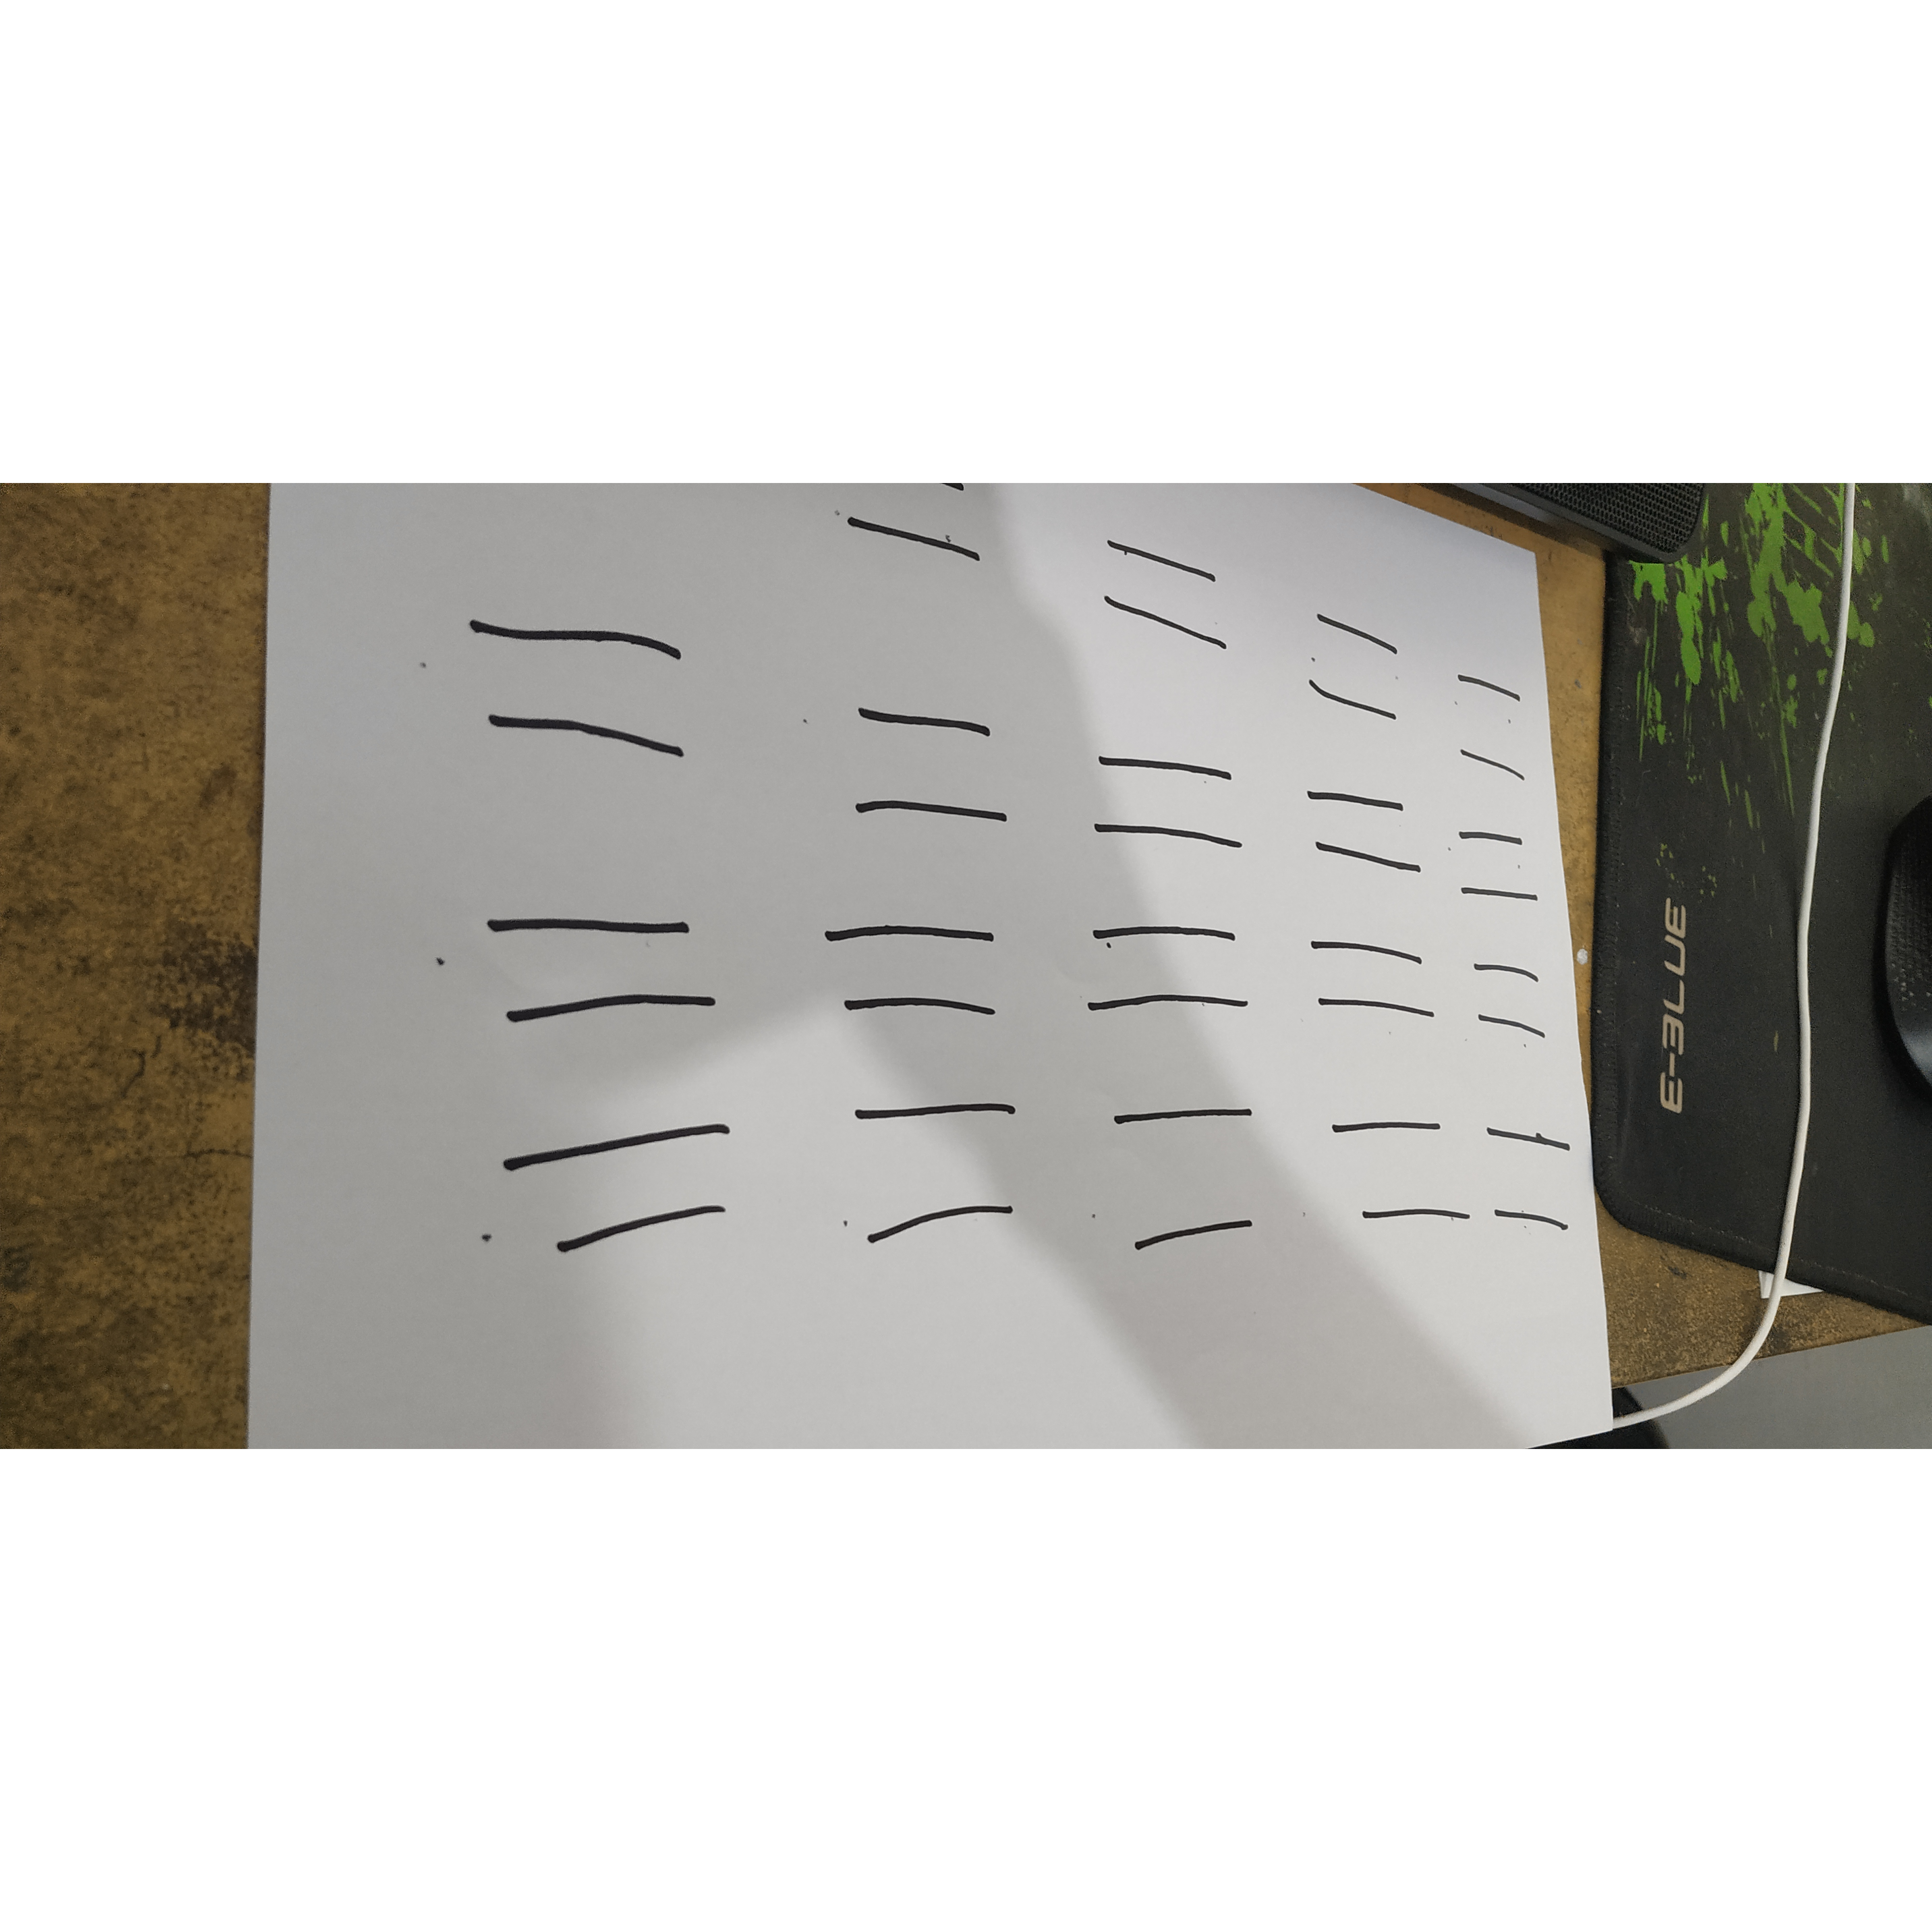equal: (450, 605, 723, 775), (467, 895, 736, 1061), (811, 659, 1028, 848), (473, 1122, 765, 1260), (838, 1096, 1072, 1254), (811, 907, 1030, 1052), (1065, 710, 1252, 869), (1103, 1100, 1288, 1256), (1311, 1096, 1486, 1247), (1082, 516, 1246, 664), (1078, 916, 1282, 1031), (1286, 578, 1422, 750), (1290, 922, 1452, 1039), (1305, 764, 1424, 888), (1486, 1107, 1580, 1250), (1444, 806, 1553, 924), (1450, 659, 1538, 781), (1466, 947, 1547, 1061)
